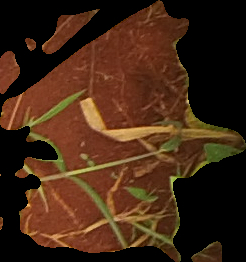soil: (2, 1, 245, 261)
